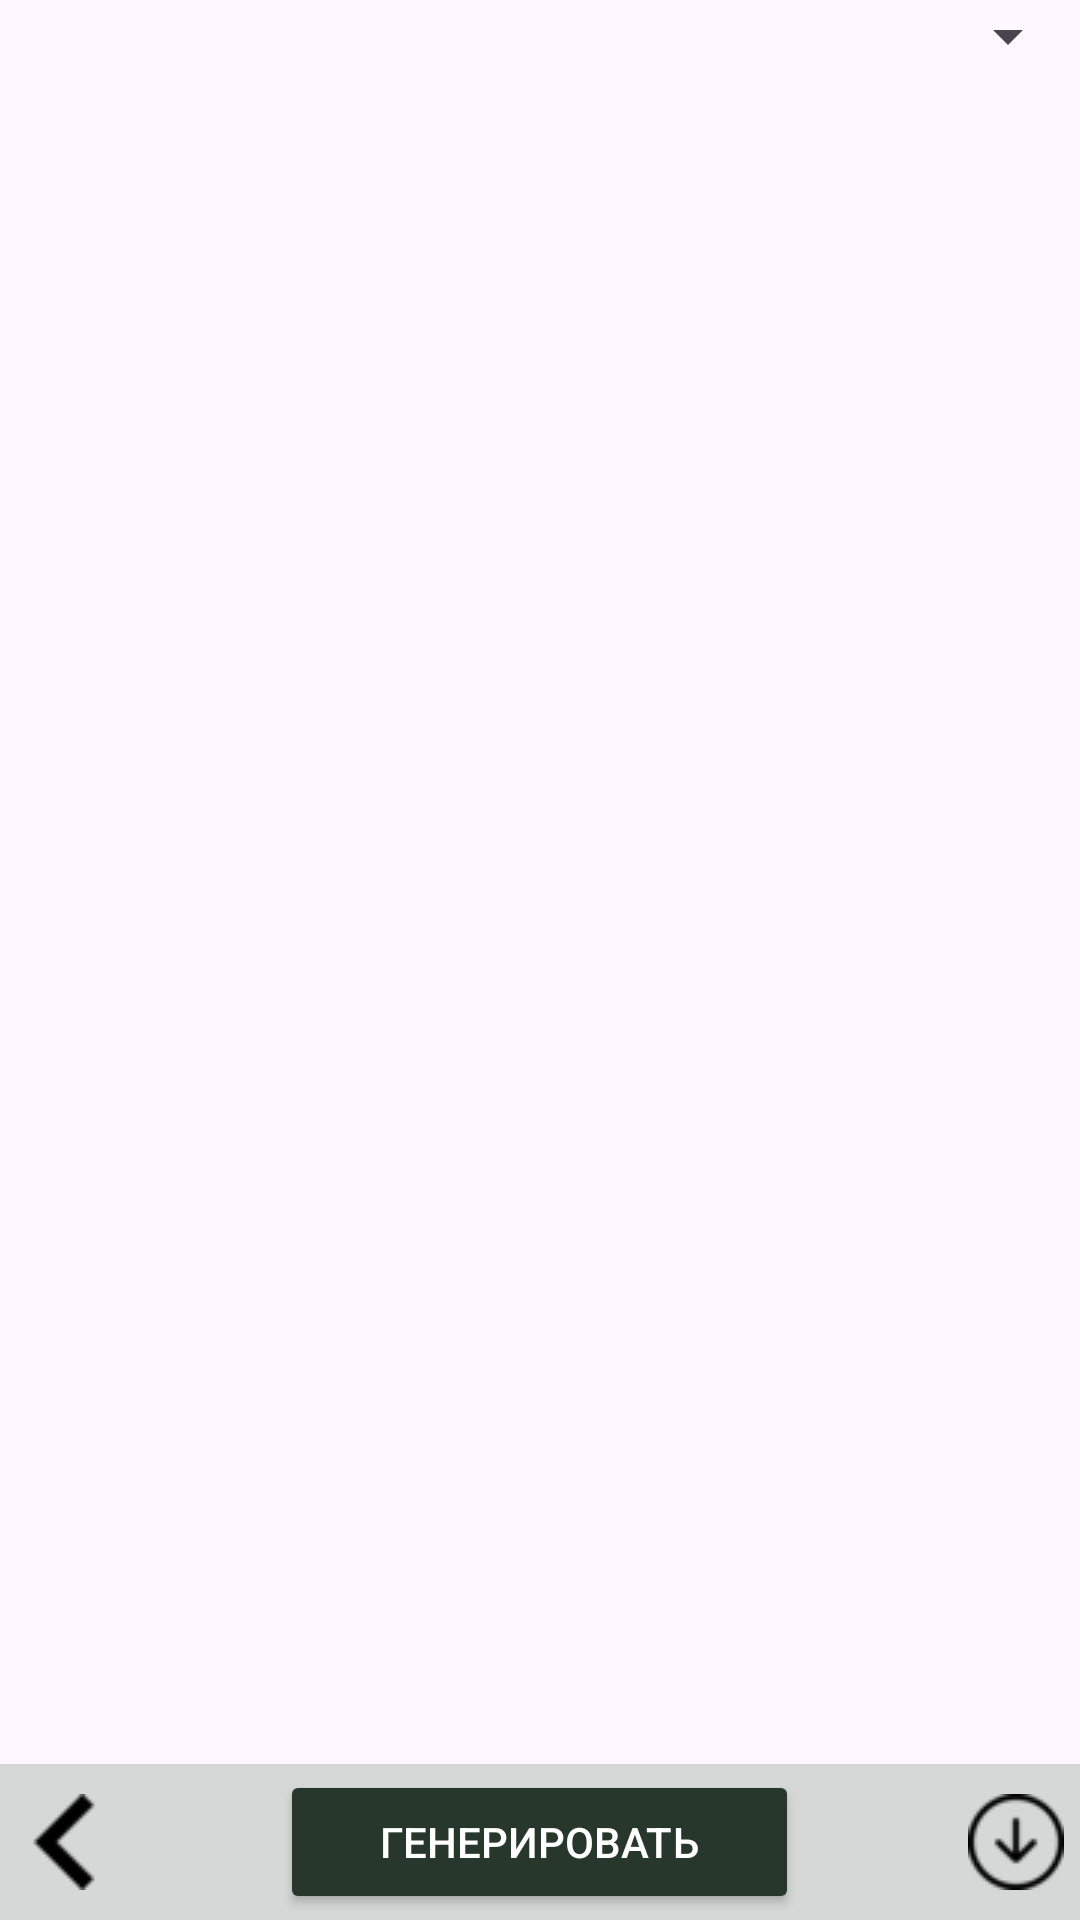

Icon click points for this 1080 x 1920 phone screenshot, format (x,y):
Назад: (64,1842)
Скачать: (1016,1842)
